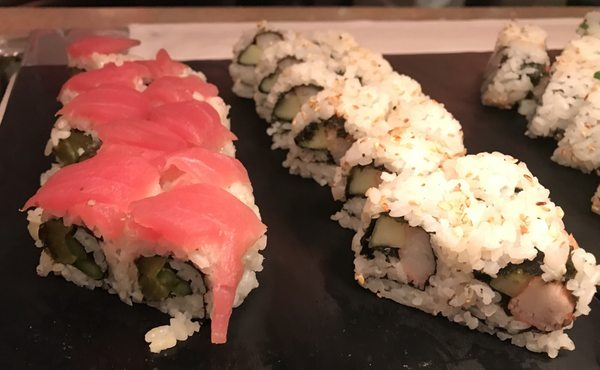soup: (20, 47, 269, 350)
